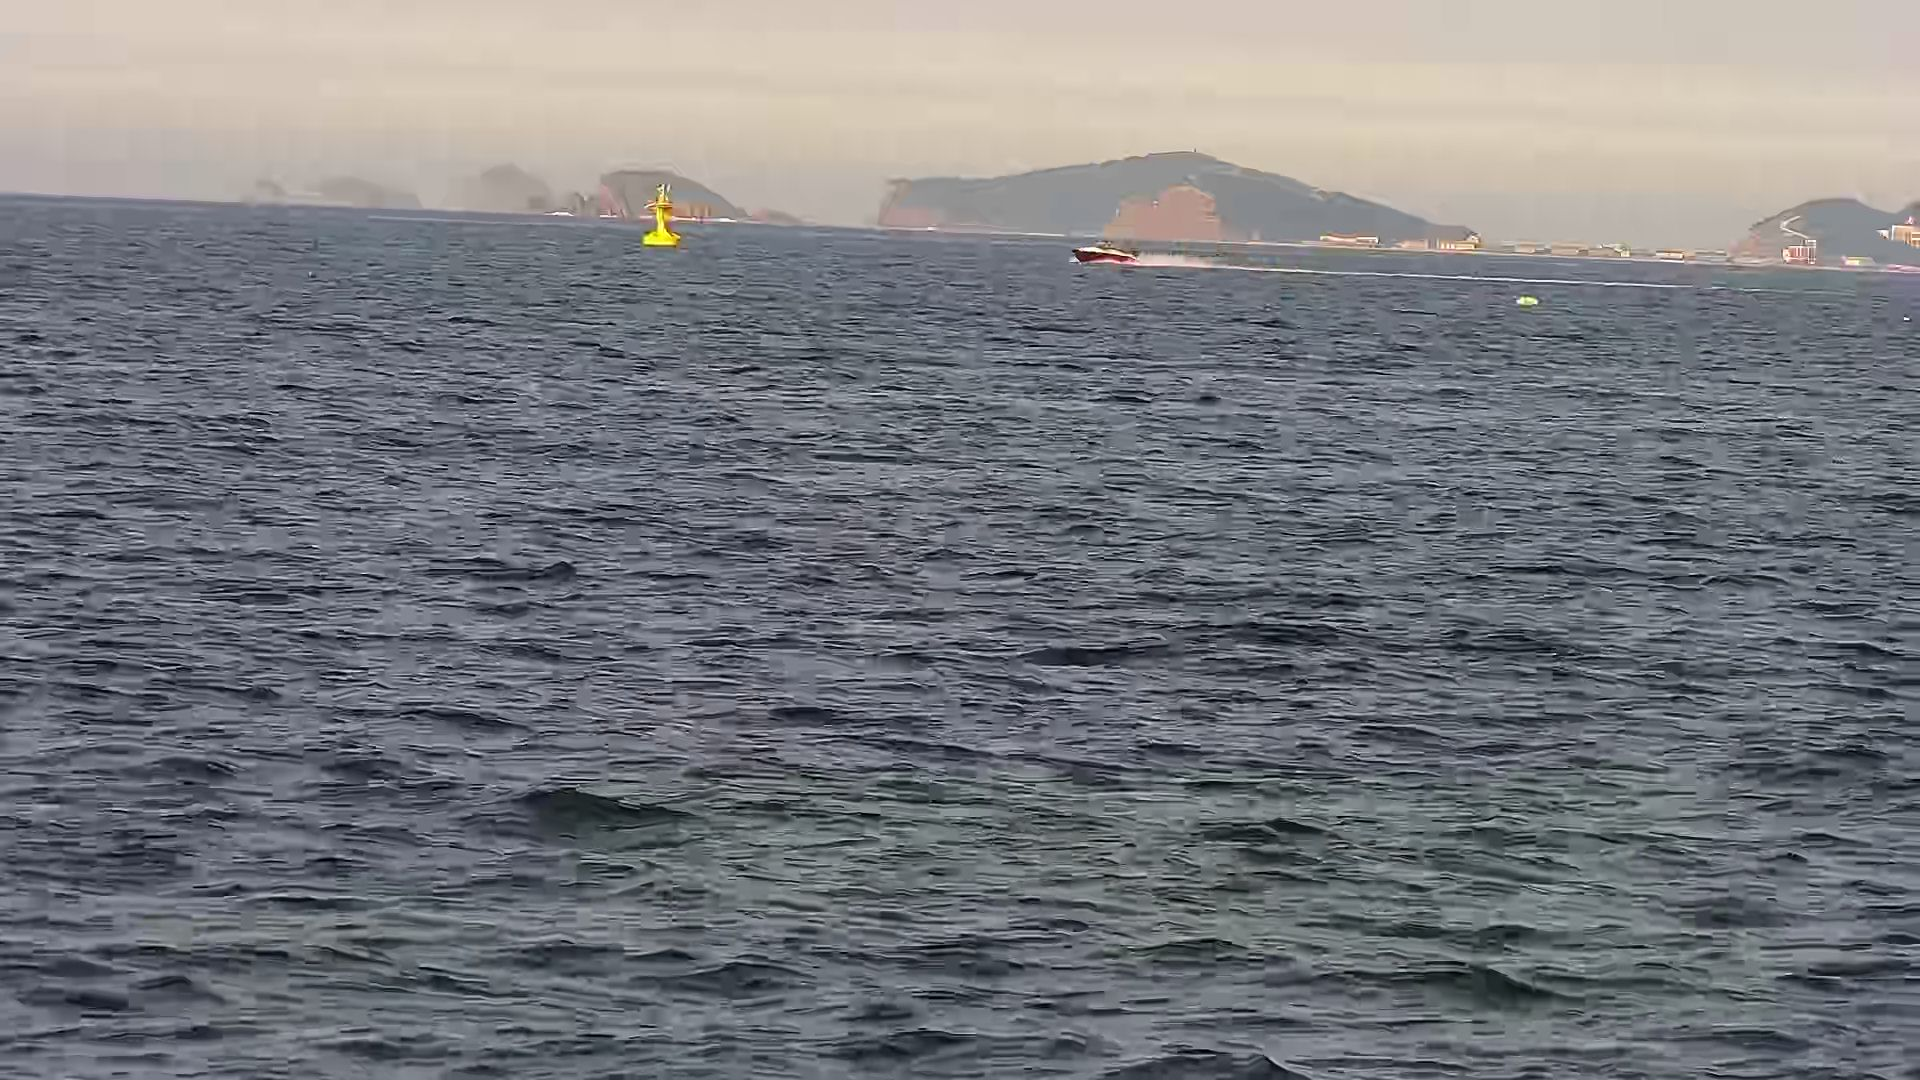boat: (1065, 235, 1143, 273)
buoy: (640, 191, 687, 253)
